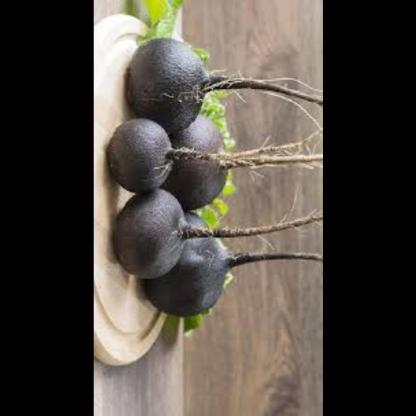redka: (145, 210, 230, 321), (119, 39, 212, 131), (110, 193, 194, 278), (170, 111, 232, 216), (101, 118, 178, 198)
